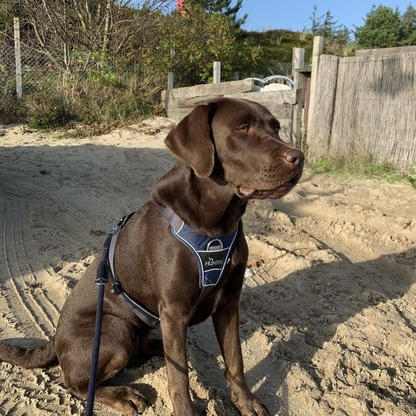labrado: (3, 92, 305, 416)
